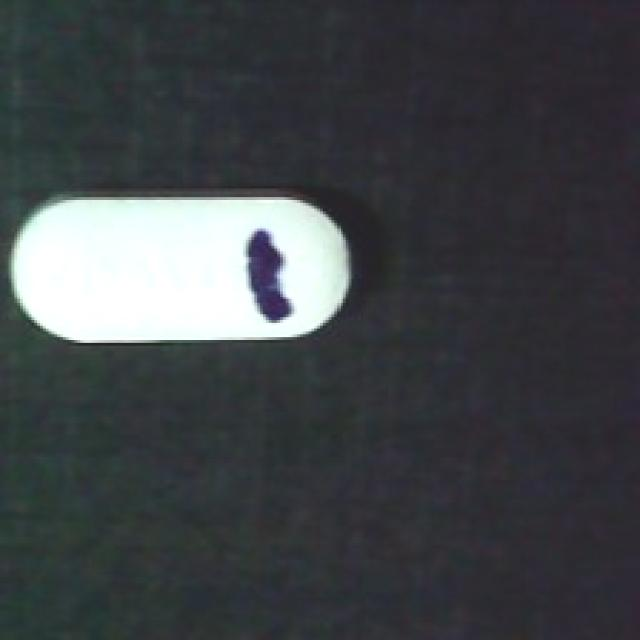defected: (0, 191, 351, 349)
